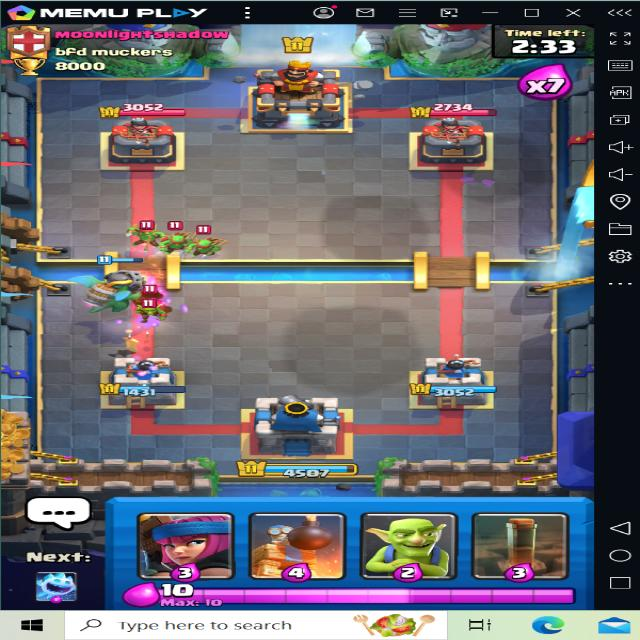goblin: (131, 298, 173, 320)
spear-goblin: (163, 221, 194, 251), (131, 220, 163, 247), (192, 231, 222, 257)
